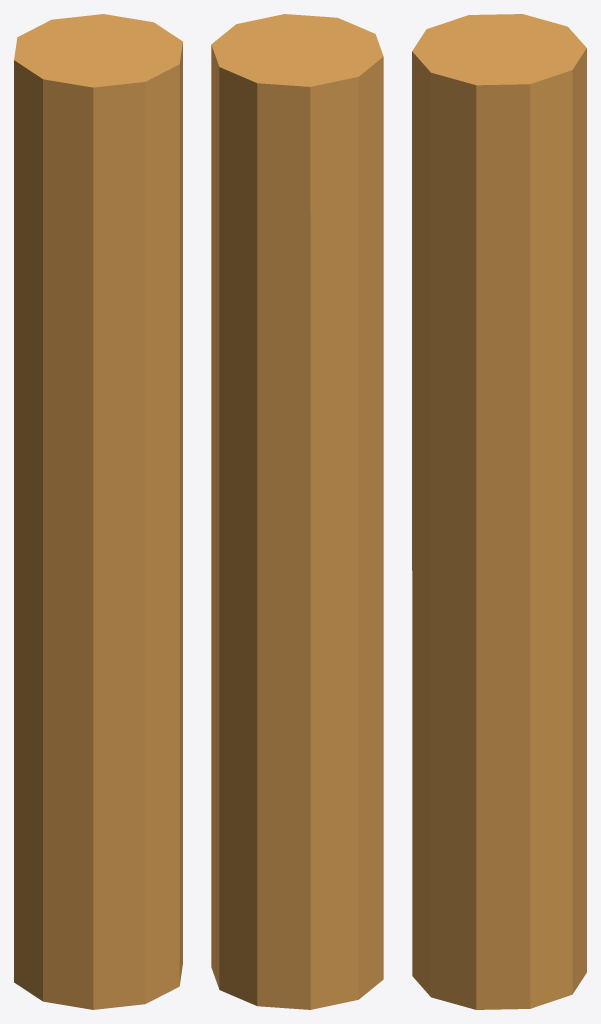
File: data150.glb
3 renders of one model, left to right at view 1: azimuth 30°, elevation 25°; view 2: azimuth 150°, elevation 25°; view 3: azimuth 270°, elevation 25°, orthographic.
Size of the model in its own units: 0.0579 by 0.35 by 0.06.
